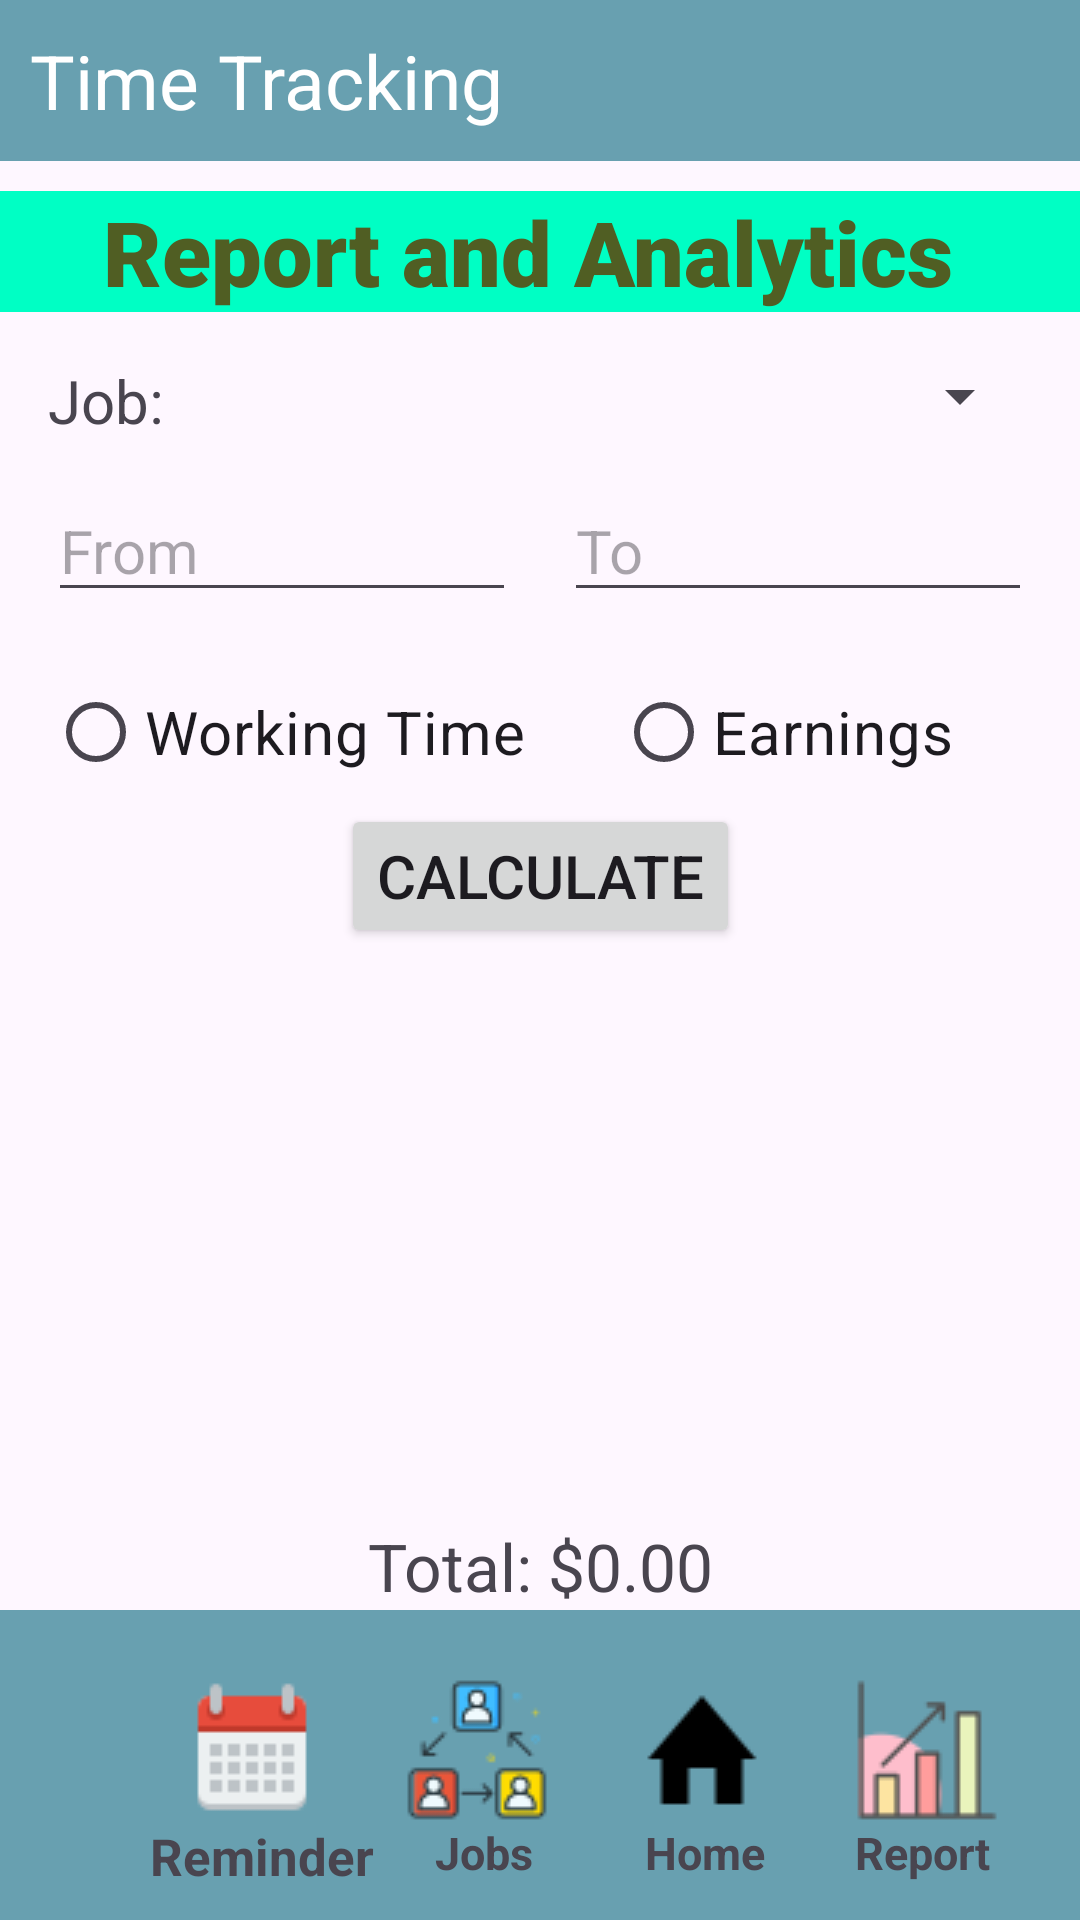

Icons on this 1080px x 1920px Android screen, each with its box as rect(x1, y1, x2, y2):
analytics: rect(858, 1681, 996, 1820)
calendar: rect(197, 1683, 307, 1811)
